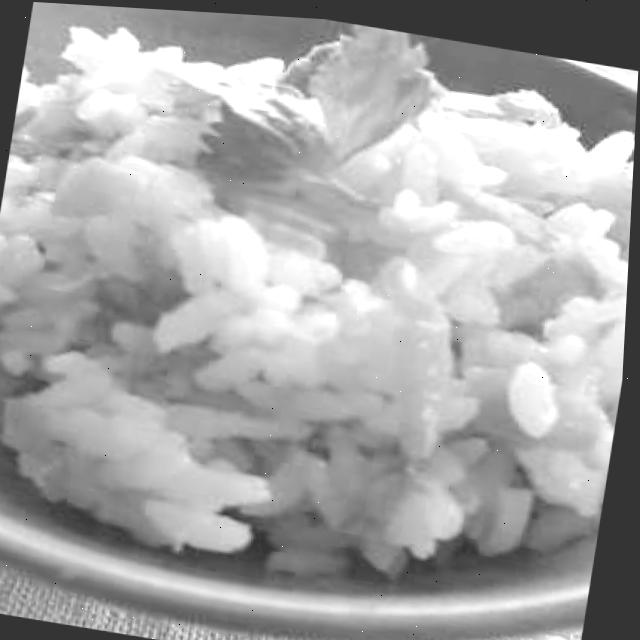米饭主食: (0, 0, 640, 577)
